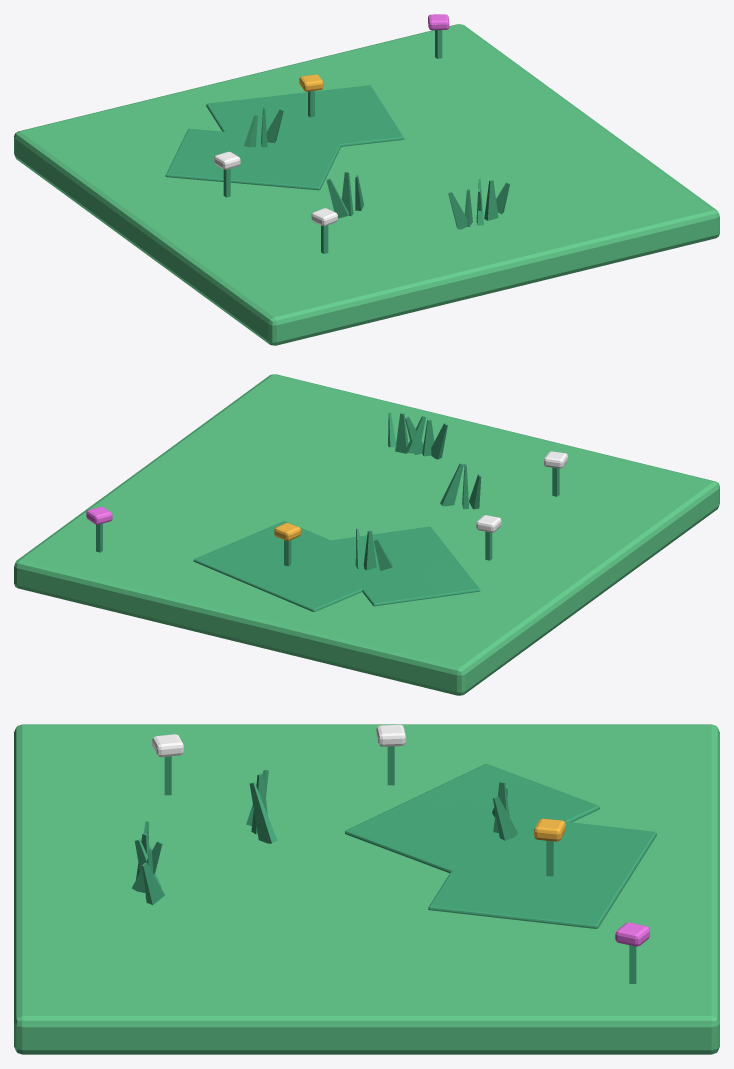
File: grass-floor-flowers.glb
3 renders of one model, top to bottom at view 1: azimuth 30°, elevation 25°; view 2: azimuth 150°, elevation 25°; view 3: azimuth 270°, elevation 25°, orthographic. The views are drawn at different scales.
Parts seen in each view (by area): view 1: grass-floor-flowers; view 2: grass-floor-flowers; view 3: grass-floor-flowers.
Boxes of the visible parts, x1,y1,x2,y2 form: grass-floor-flowers: [14, 14, 719, 345]; grass-floor-flowers: [14, 374, 719, 695]; grass-floor-flowers: [14, 724, 719, 1054].
Bounding box in the file's own units: 1 × 0.1484 × 1.
Materials: 1 (1 with a texture image).
